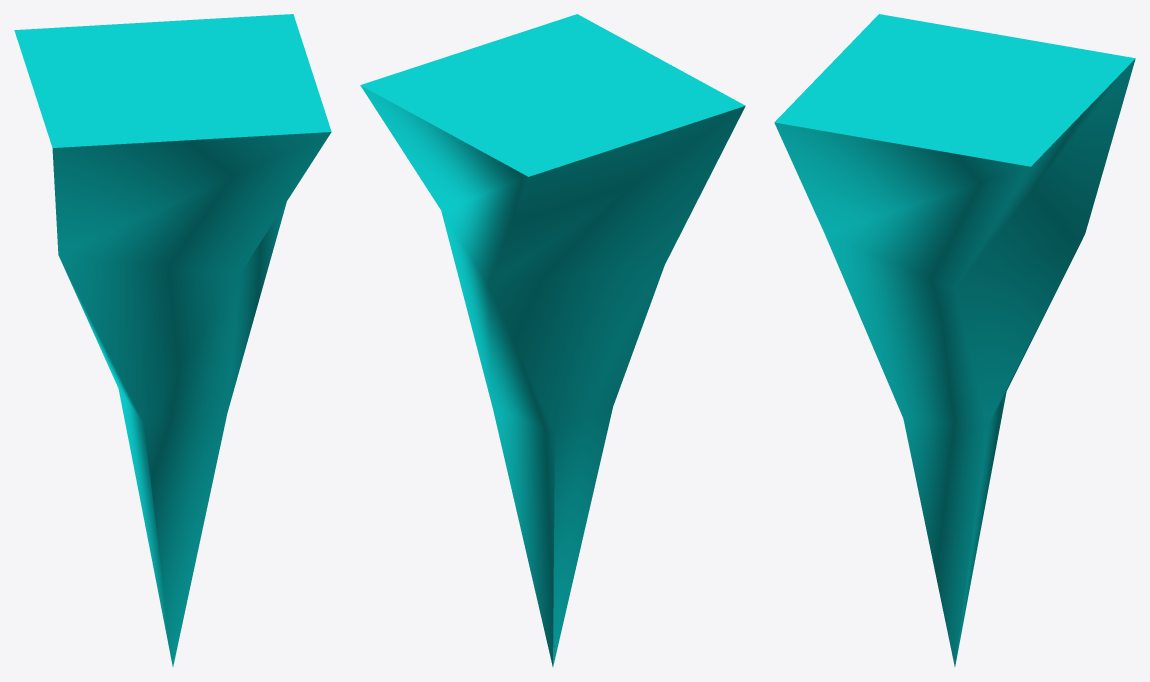
Rendered from icecicle.fbx.
The picture shows the model from 3 angles, left to right: view 1: azimuth 30°, elevation 25°; view 2: azimuth 150°, elevation 25°; view 3: azimuth 270°, elevation 25°; orthographic projection. The views are drawn at different scales.
Parts seen in each view (by area): view 1: pCone2; view 2: pCone2; view 3: pCone2.
Boxes of the visible parts, left/top/right/bottom form: pCone2: left=14, top=14, right=331, bottom=666; pCone2: left=360, top=14, right=745, bottom=666; pCone2: left=774, top=14, right=1135, bottom=666.
Size of the model in its own units: 1.76 by 3.1 by 1.76.
